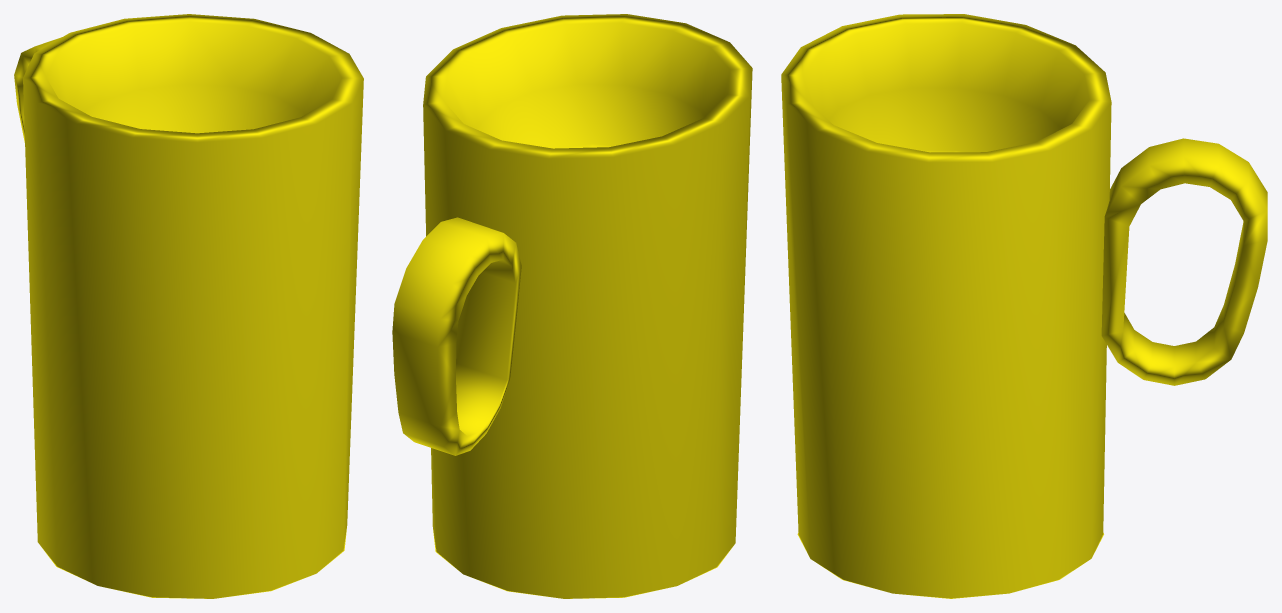
Rendered from Taza05.fbx.
3 views of the same model, side by side, from view 1: azimuth 30°, elevation 25°; view 2: azimuth 150°, elevation 25°; view 3: azimuth 270°, elevation 25° (orthographic). The views are drawn at different scales.
Parts seen in each view (by area): view 1: Taza05; view 2: Taza05; view 3: Taza05.
Boxes of the visible parts, box(x1,y1,x2,y2) form: Taza05: box(14, 14, 363, 598); Taza05: box(392, 14, 752, 598); Taza05: box(781, 14, 1267, 598).
Size of the model in its own units: 13.33 by 20.16 by 19.64.
